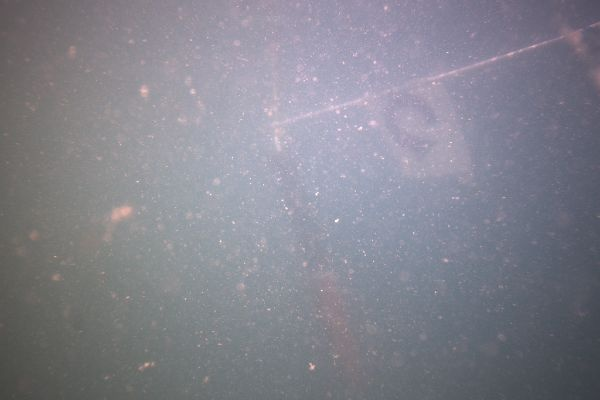gate: (272, 19, 600, 382)
gate_bleue: (368, 80, 470, 180)
